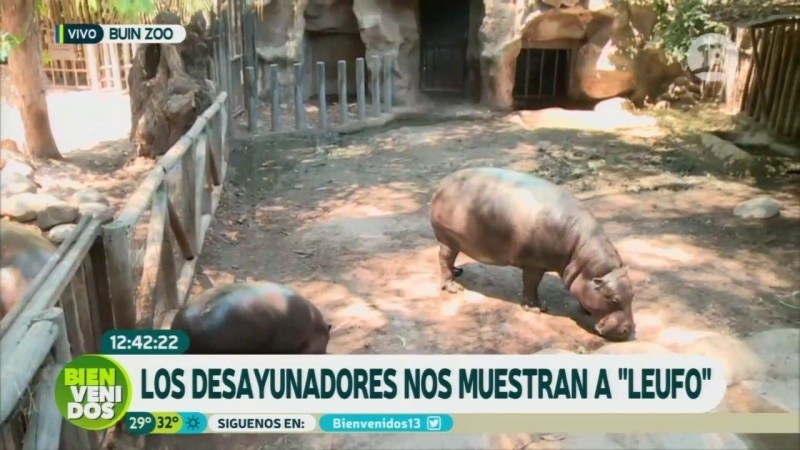hipopotamo: (426, 151, 648, 352), (163, 274, 337, 354)
